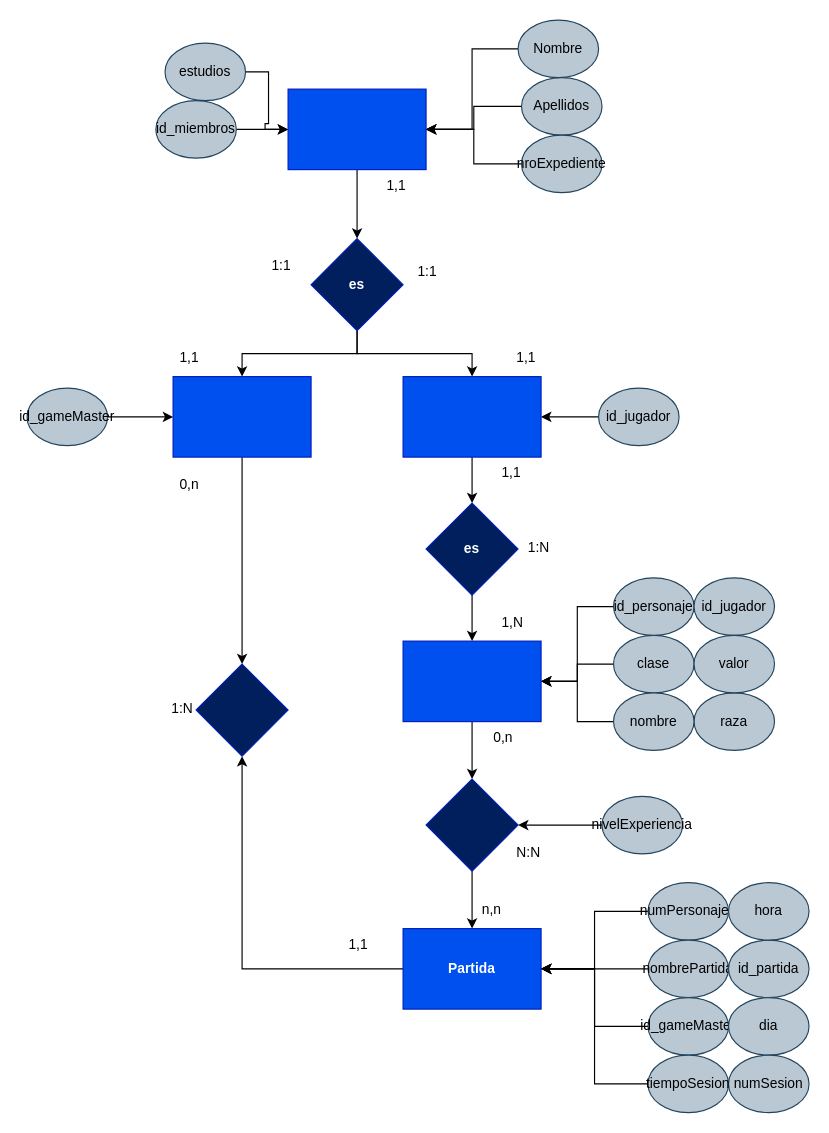
Some shapes in this 829 by 1133 pixel diagram are drawn without their labels. Here are the shapes that lost their labels. From the top down, the centre of each, then its label:
At point 356,129: "Miembro del club".
At point 241,416: "Game Master".
At point 471,416: "Jugador".
At point 471,681: "Personaje".
At point 241,709: "Dirige".
At point 471,824: "Juega".
